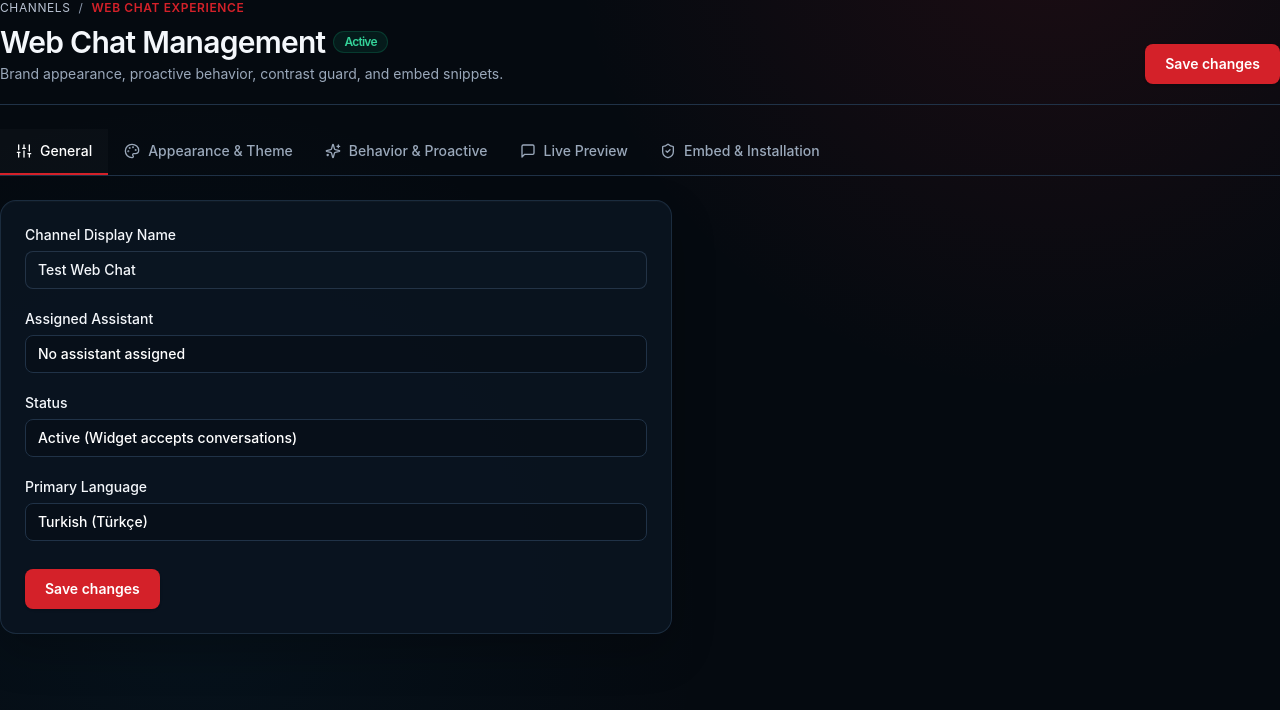
WebChatManagement Component › renders canonical shared launcher & panel with unsaved changes detection and locale parity in Live Preview
This screenshot has width=1280, height=710.
Click the button "Live Preview" at (574, 152), box [504,129,644,175]
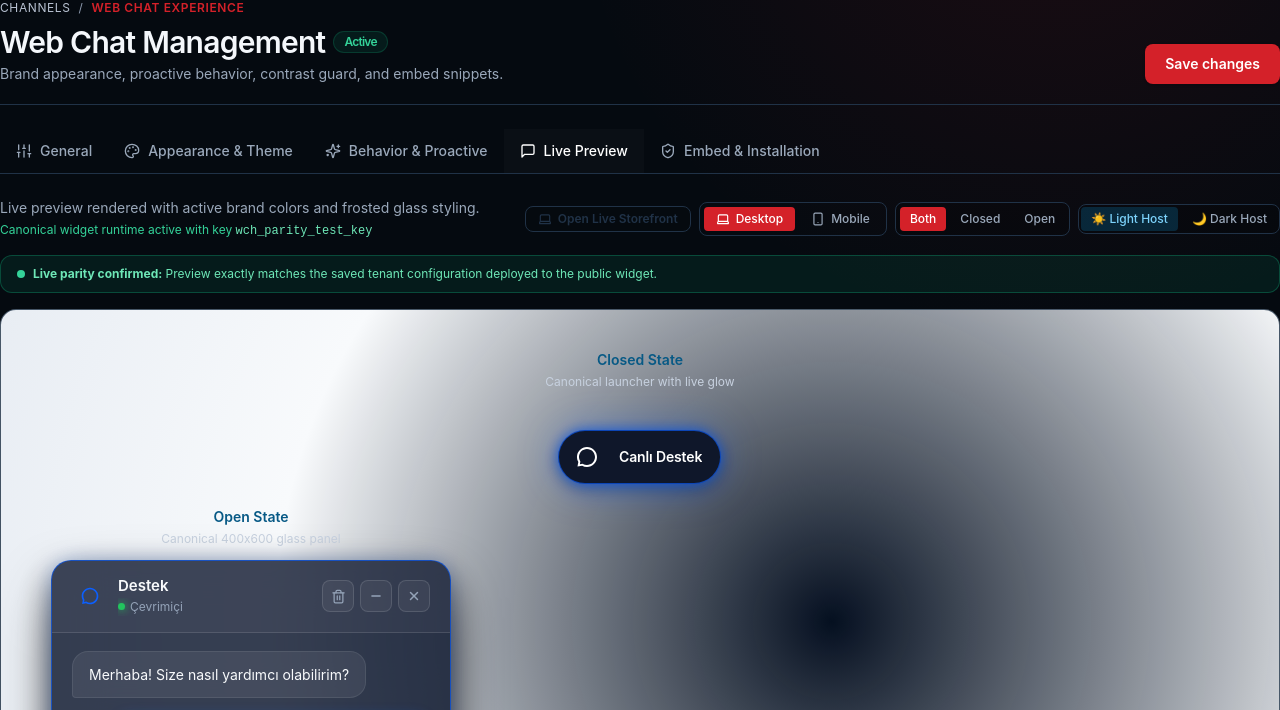
Check: the element with test id "saved-sync-indicator-preview-tab" is shown, box [0,255,1279,293]
Check: the text "Live parity confirmed:" is shown, box [33,266,162,281]
Check: the button with test id "preview-canonical-launcher" is shown, box [558,430,722,484]
Click the button "Appearance & Theme" at (208, 151), box [108,129,309,173]
(page scrolled)
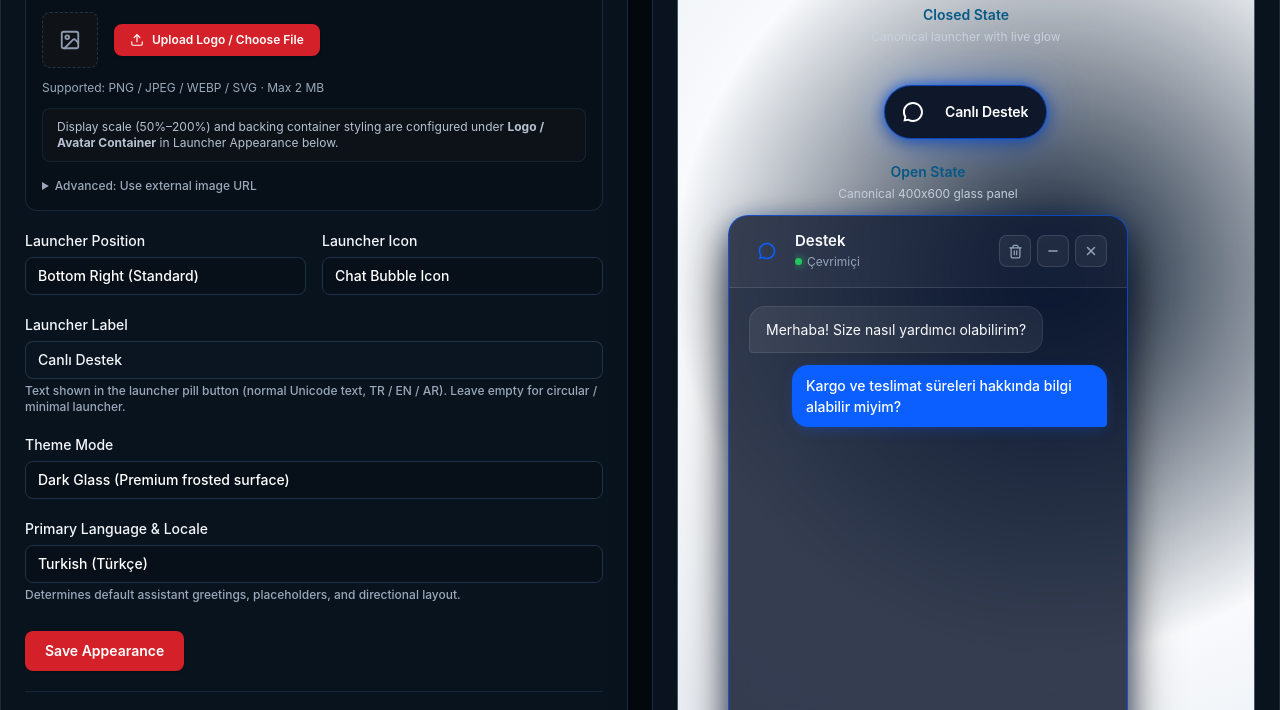
Type "Canlı Yardım Masası" into the field labelled "Launcher Label" at (314, 360), box [25,341,603,379]
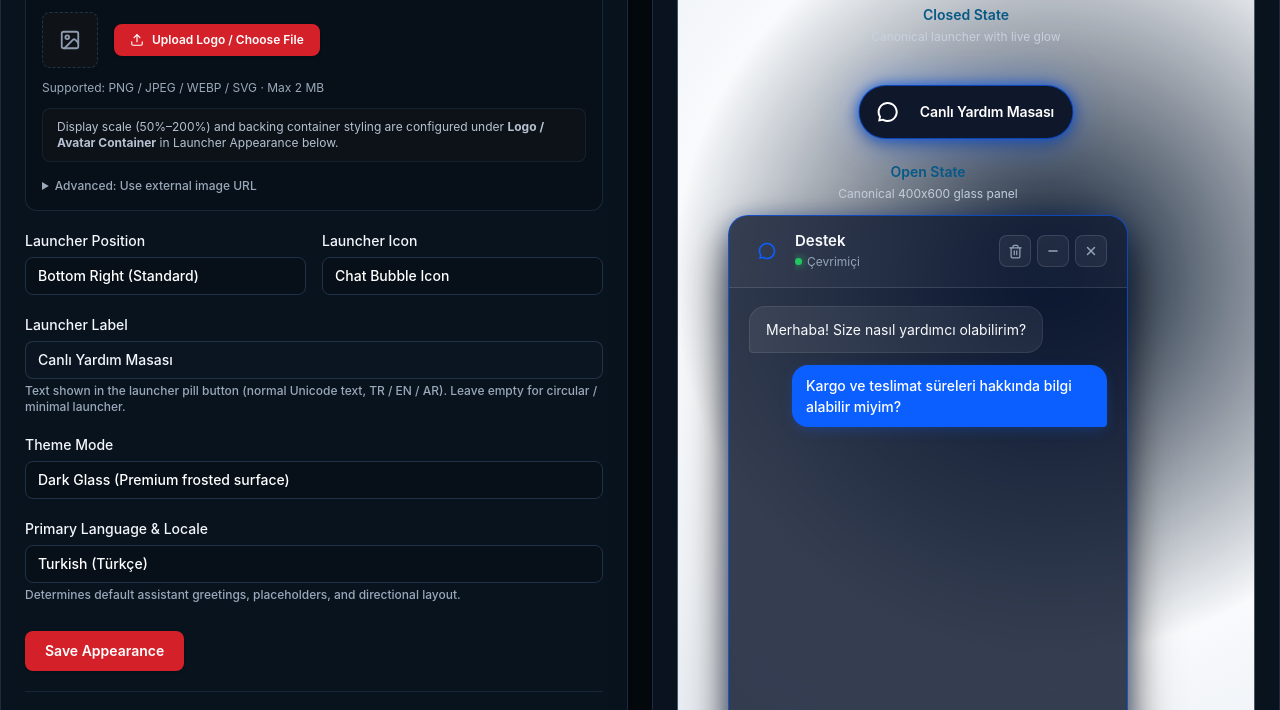
Select "English (Live Support, Online)" in the dropdown labelled "Primary Language" at (314, 564), box [25,545,603,583]
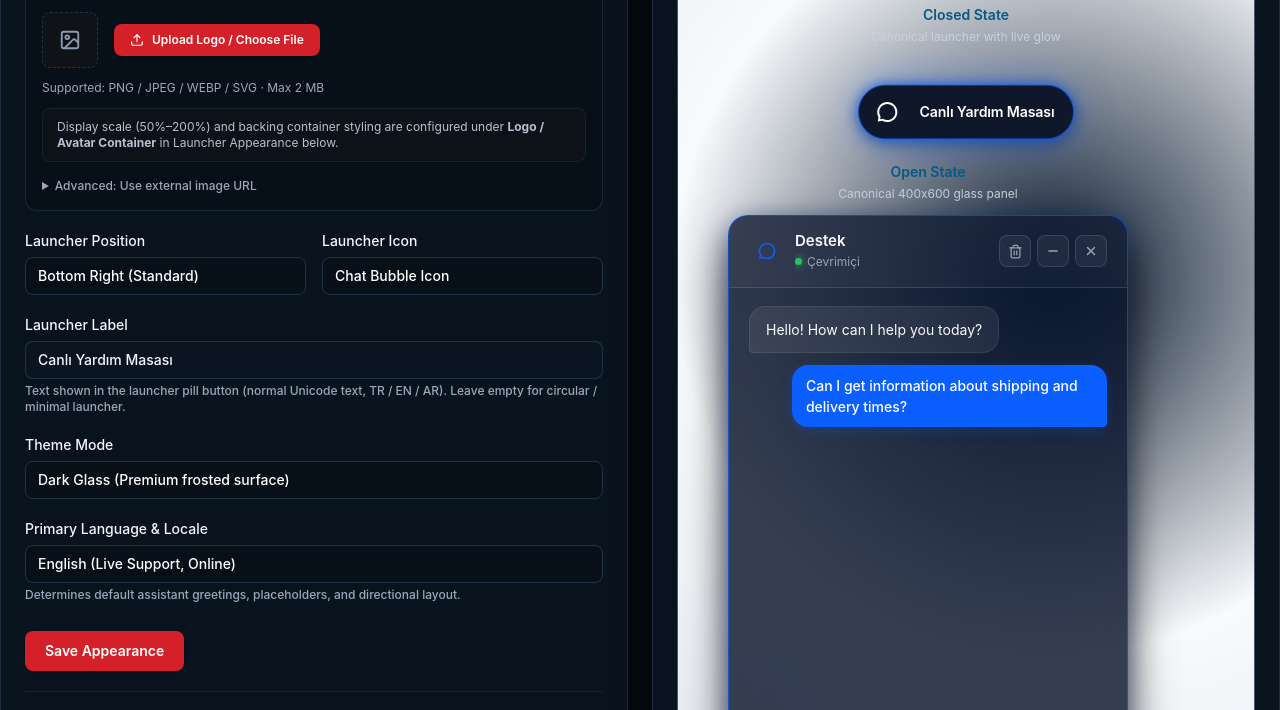
Check: the text "Hello! How can I help you today?" is shown, box [766,319,982,340]
